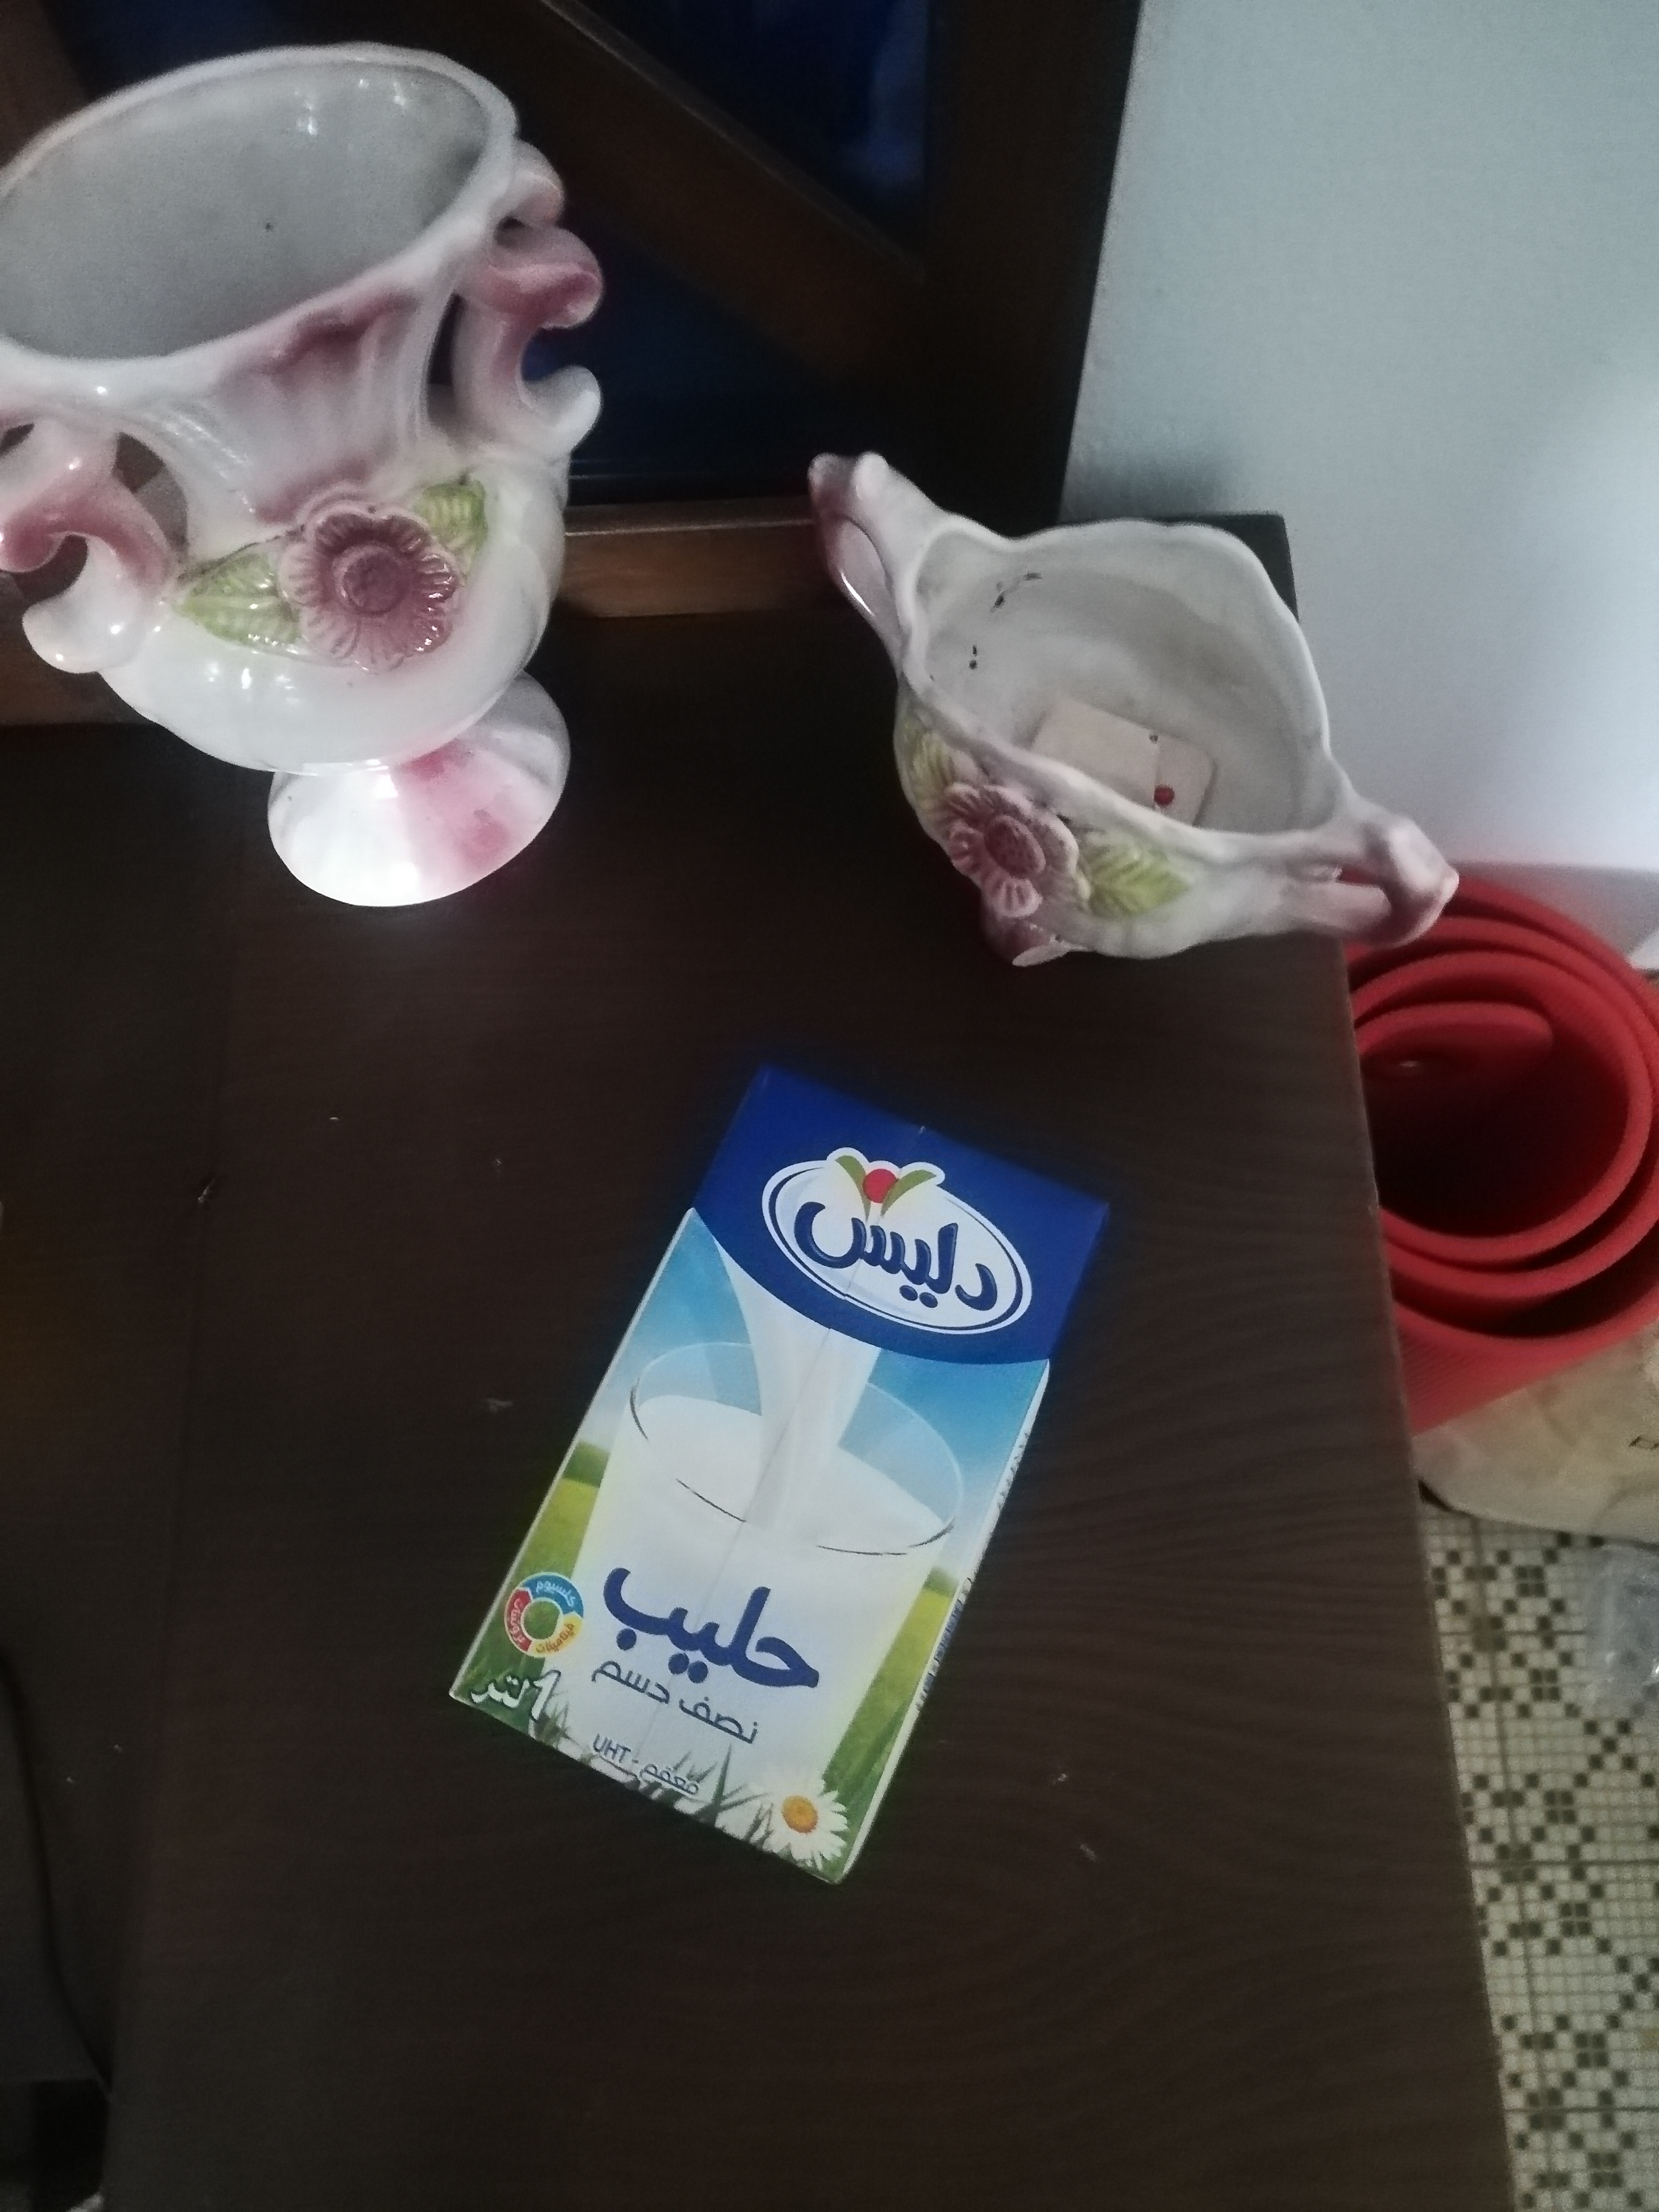Lait delice: (444, 1061, 1114, 1892)
